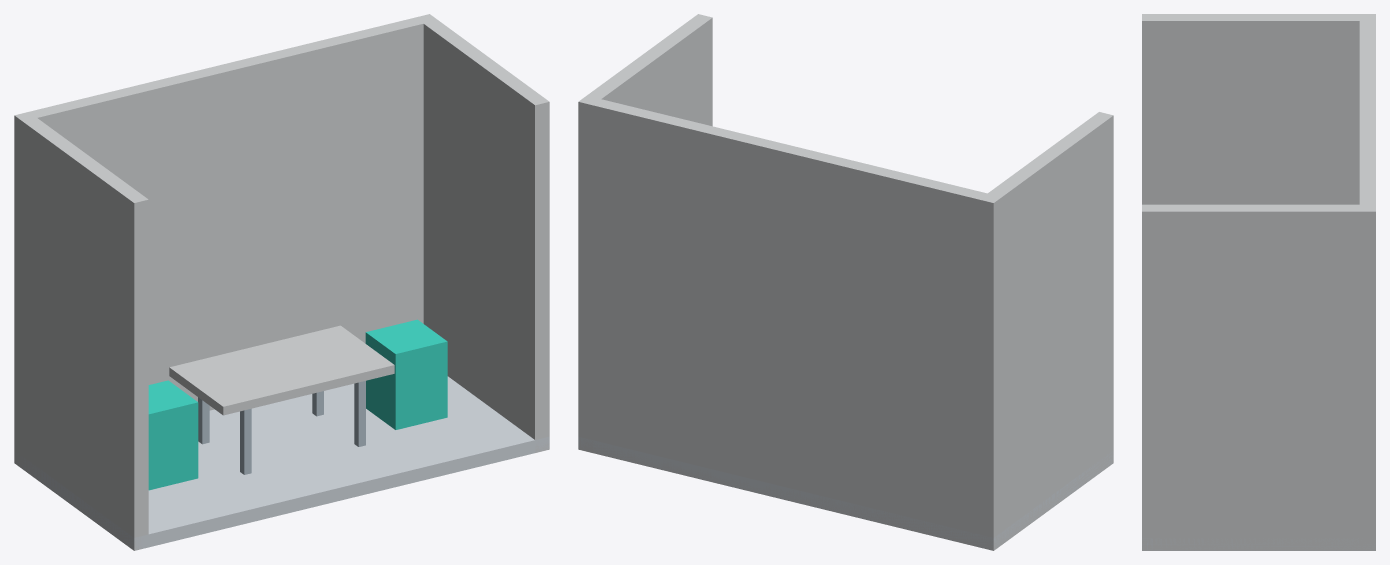
3 renders of one model, left to right at view 1: azimuth 30°, elevation 25°; view 2: azimuth 150°, elevation 25°; view 3: azimuth 270°, elevation 25°, orthographic. The views are drawn at different scales.
Visible parts, largest first — view 1: Exhibition Booth Concept; view 2: Exhibition Booth Concept; view 3: Exhibition Booth Concept.
Boxes of the visible parts, left/top/right/bottom form: Exhibition Booth Concept: left=14, top=14, right=549, bottom=550; Exhibition Booth Concept: left=578, top=14, right=1113, bottom=550; Exhibition Booth Concept: left=1142, top=14, right=1375, bottom=550.
Bounding box in the file's own units: 4 × 3.2 × 2.
